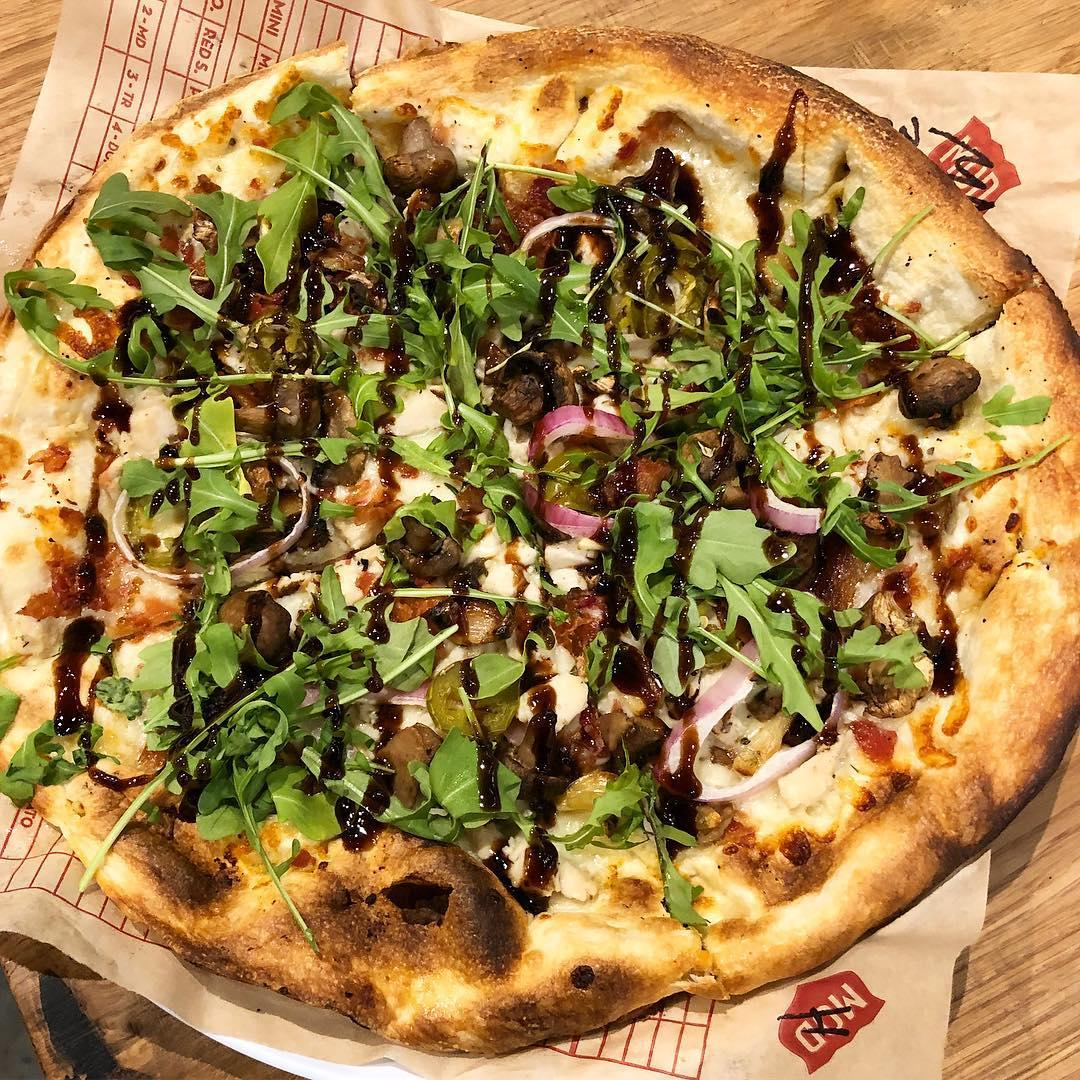Arugula: (82, 220, 855, 365), (137, 655, 361, 820), (619, 516, 837, 667), (175, 404, 250, 568)
Onion: (662, 635, 759, 775), (678, 726, 824, 798), (534, 405, 641, 460), (517, 476, 603, 544), (517, 209, 617, 255), (764, 484, 821, 532)
Pizza: (0, 27, 1080, 1057)
